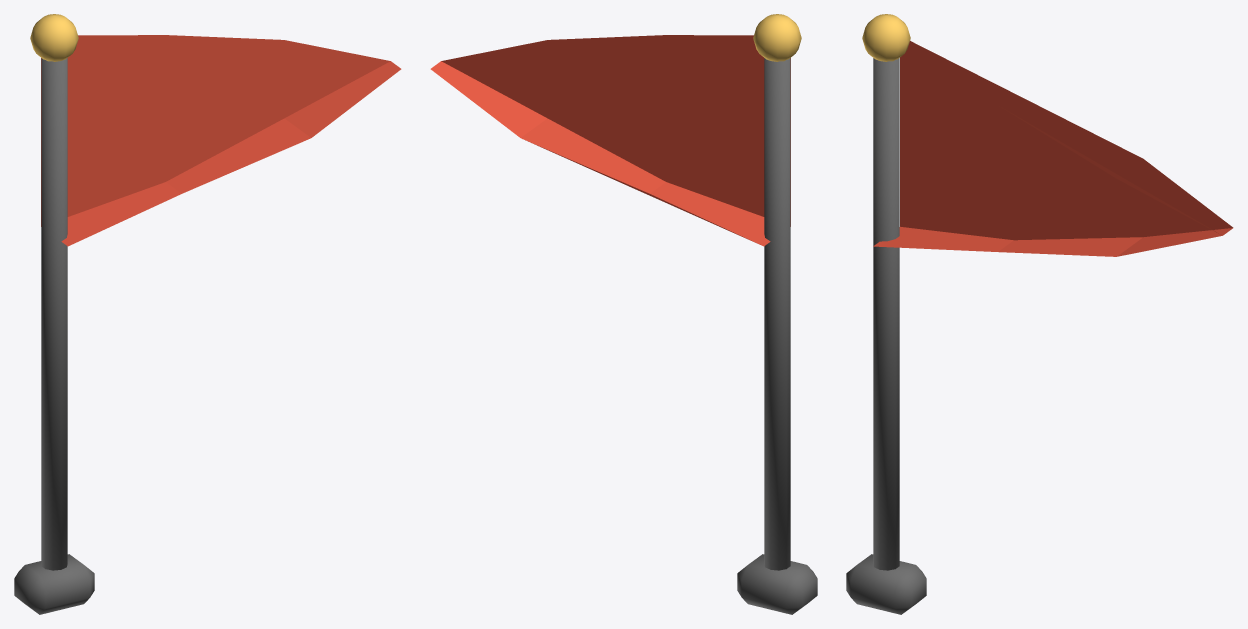
Rendered from goal-flag.glb.
3 views of the same model, side by side, from view 1: azimuth 30°, elevation 25°; view 2: azimuth 150°, elevation 25°; view 3: azimuth 330°, elevation 25° (orthographic).
Parts seen in each view (by area): view 1: goal-flag; view 2: goal-flag; view 3: goal-flag.
Part boxes in pixels (x1,y1,x2,y2): goal-flag: (14, 14, 401, 614); goal-flag: (430, 14, 817, 614); goal-flag: (846, 14, 1233, 614).
Bounding box in the file's own units: 1.6 × 2.4 × 0.2.
